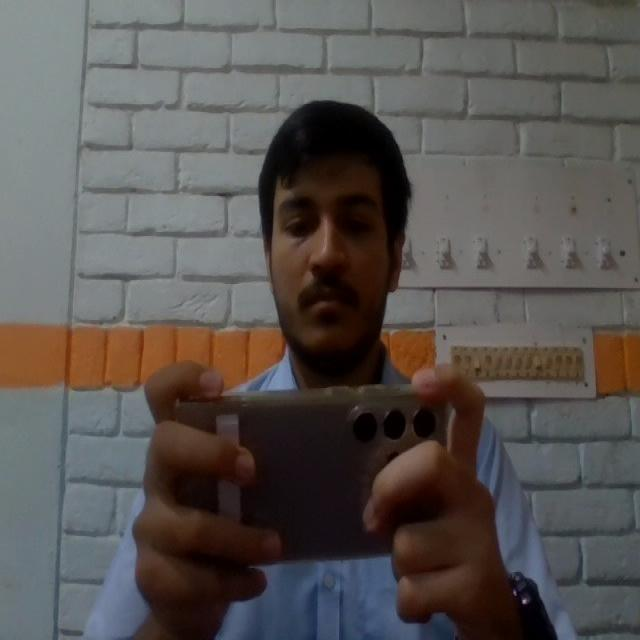phone: (160, 393, 458, 552)
using-phone: (72, 94, 577, 640)
